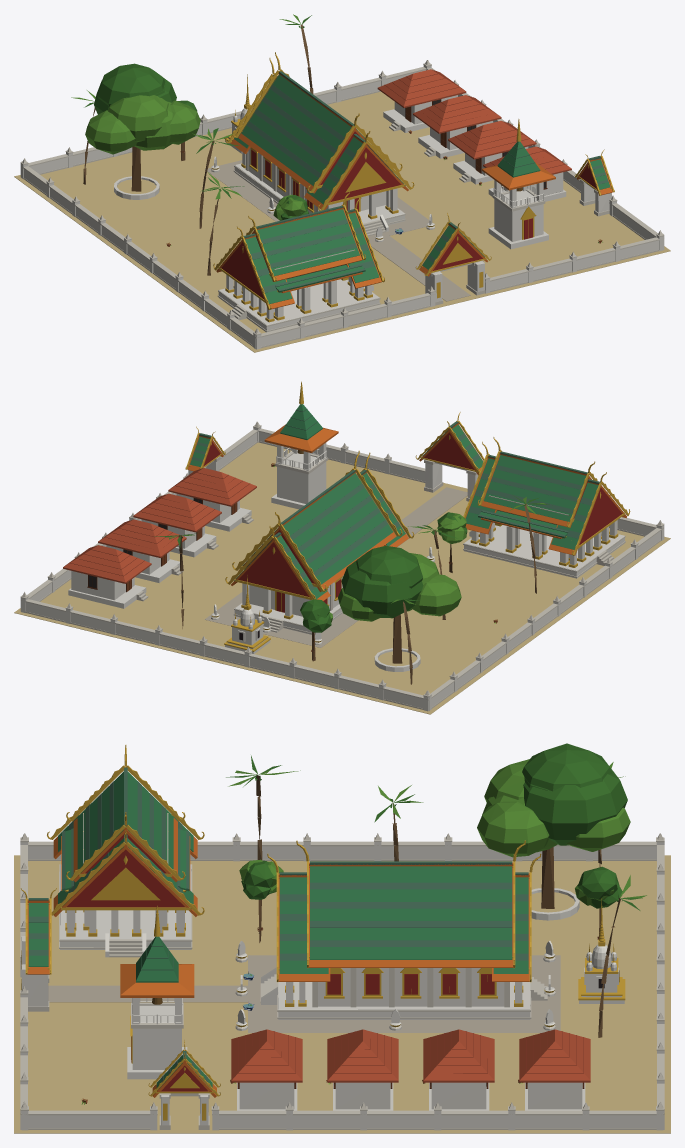
Rendered from temple_2.glb.
The picture shows the model from 3 angles, top to bottom: view 1: azimuth 30°, elevation 25°; view 2: azimuth 150°, elevation 25°; view 3: azimuth 270°, elevation 25°; orthographic projection. The views are drawn at different scales.
Parts seen in each view (by area): view 1: body; view 2: body; view 3: body.
Part boxes in pixels (x1=…): body: x1=14, y1=14, x2=670, y2=352; body: x1=14, y1=381, x2=670, y2=714; body: x1=14, y1=743, x2=670, y2=1133.
Size of the model in its own units: 47.9 by 13.28 by 47.9.
